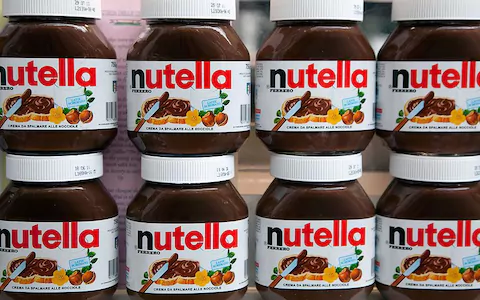nutella: (125, 1, 251, 158), (254, 1, 376, 155), (1, 1, 118, 155), (254, 153, 377, 299), (125, 155, 249, 299), (1, 155, 120, 299), (377, 1, 480, 155), (378, 155, 480, 298)
